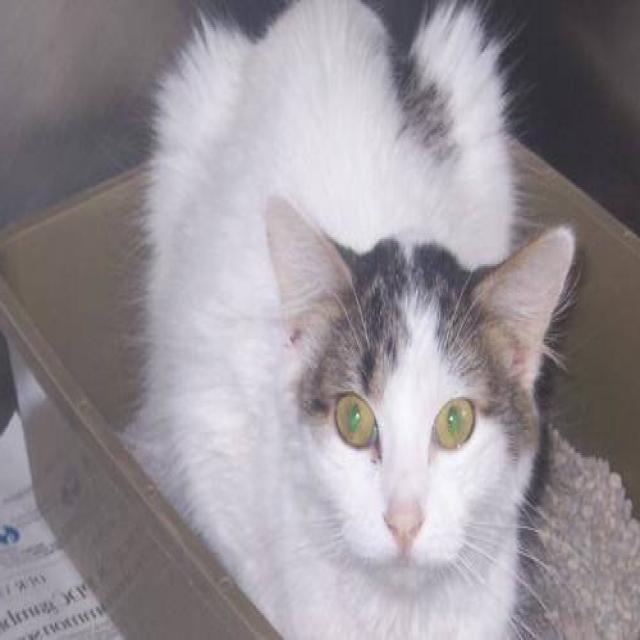Kucing: (79, 0, 611, 630)
